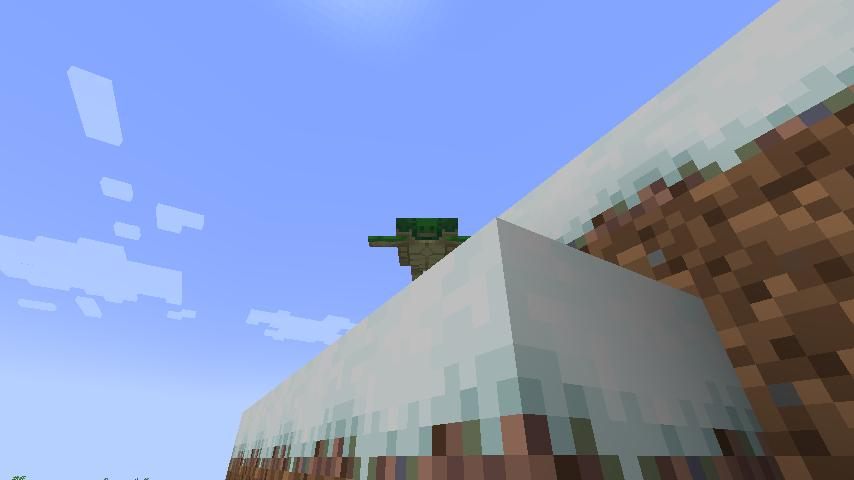turtle: (364, 210, 474, 283)
